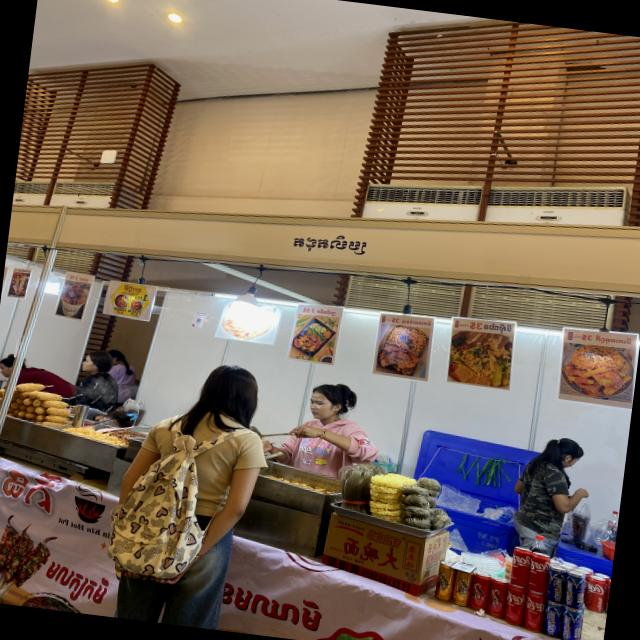102: (129, 312, 138, 317)
133: (115, 310, 124, 315)
503: (141, 294, 148, 302)
537: (115, 307, 127, 312)
635: (302, 307, 315, 314), (70, 274, 78, 280)
704: (468, 320, 482, 330), (580, 333, 592, 342), (390, 316, 399, 323)
827: (129, 309, 141, 315)
Yolov11kh: (233, 579, 328, 635), (36, 557, 119, 611), (0, 453, 67, 519), (285, 232, 374, 256), (593, 334, 633, 347), (401, 315, 434, 328), (483, 322, 513, 334), (316, 305, 339, 317), (122, 284, 143, 294), (78, 276, 88, 284), (135, 294, 144, 302), (112, 306, 116, 311), (127, 309, 130, 312)
